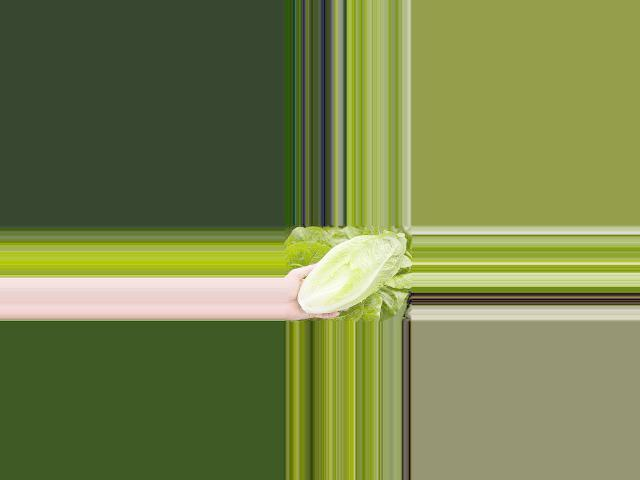lettuce: (296, 231, 406, 316)
